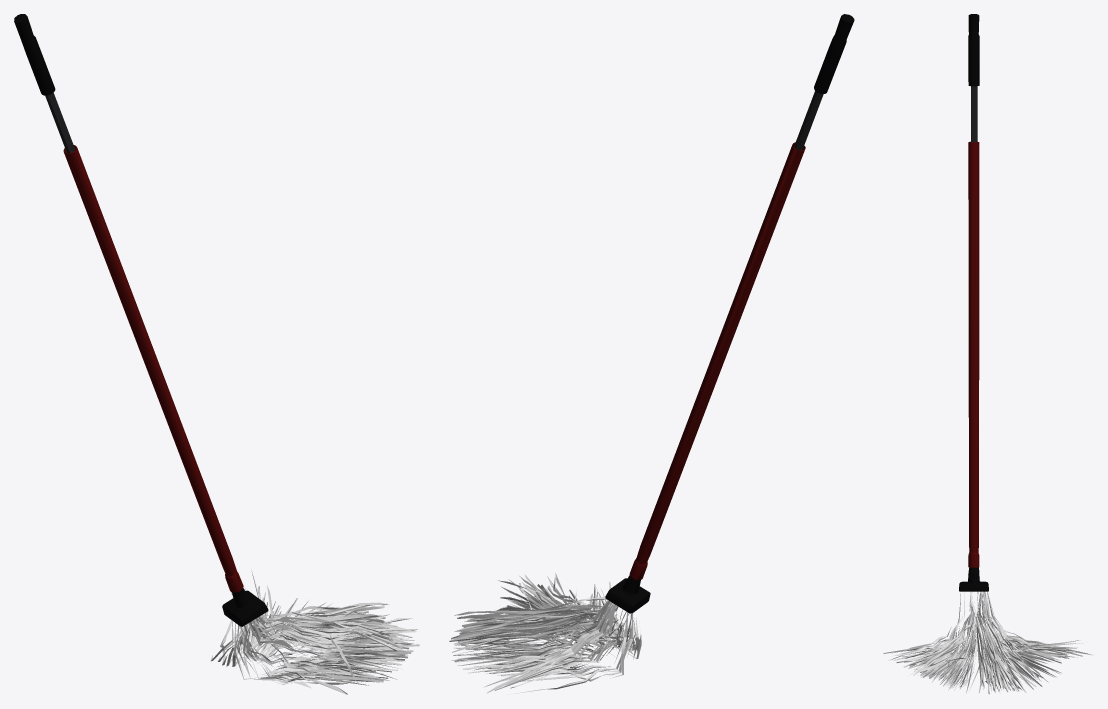
File: mop.FBX
3 renders of one model, left to right at view 1: azimuth 30°, elevation 25°; view 2: azimuth 150°, elevation 25°; view 3: azimuth 270°, elevation 25°, orthographic. The views are drawn at different scales.
Visible parts, largest first — view 1: mop; view 2: mop; view 3: mop.
Boxes of the visible parts, x1,y1,x2,y2 form: mop: [14, 14, 419, 694]; mop: [449, 14, 854, 694]; mop: [883, 14, 1093, 694].
Bounding box in the file's own units: 526 × 922 × 323.
